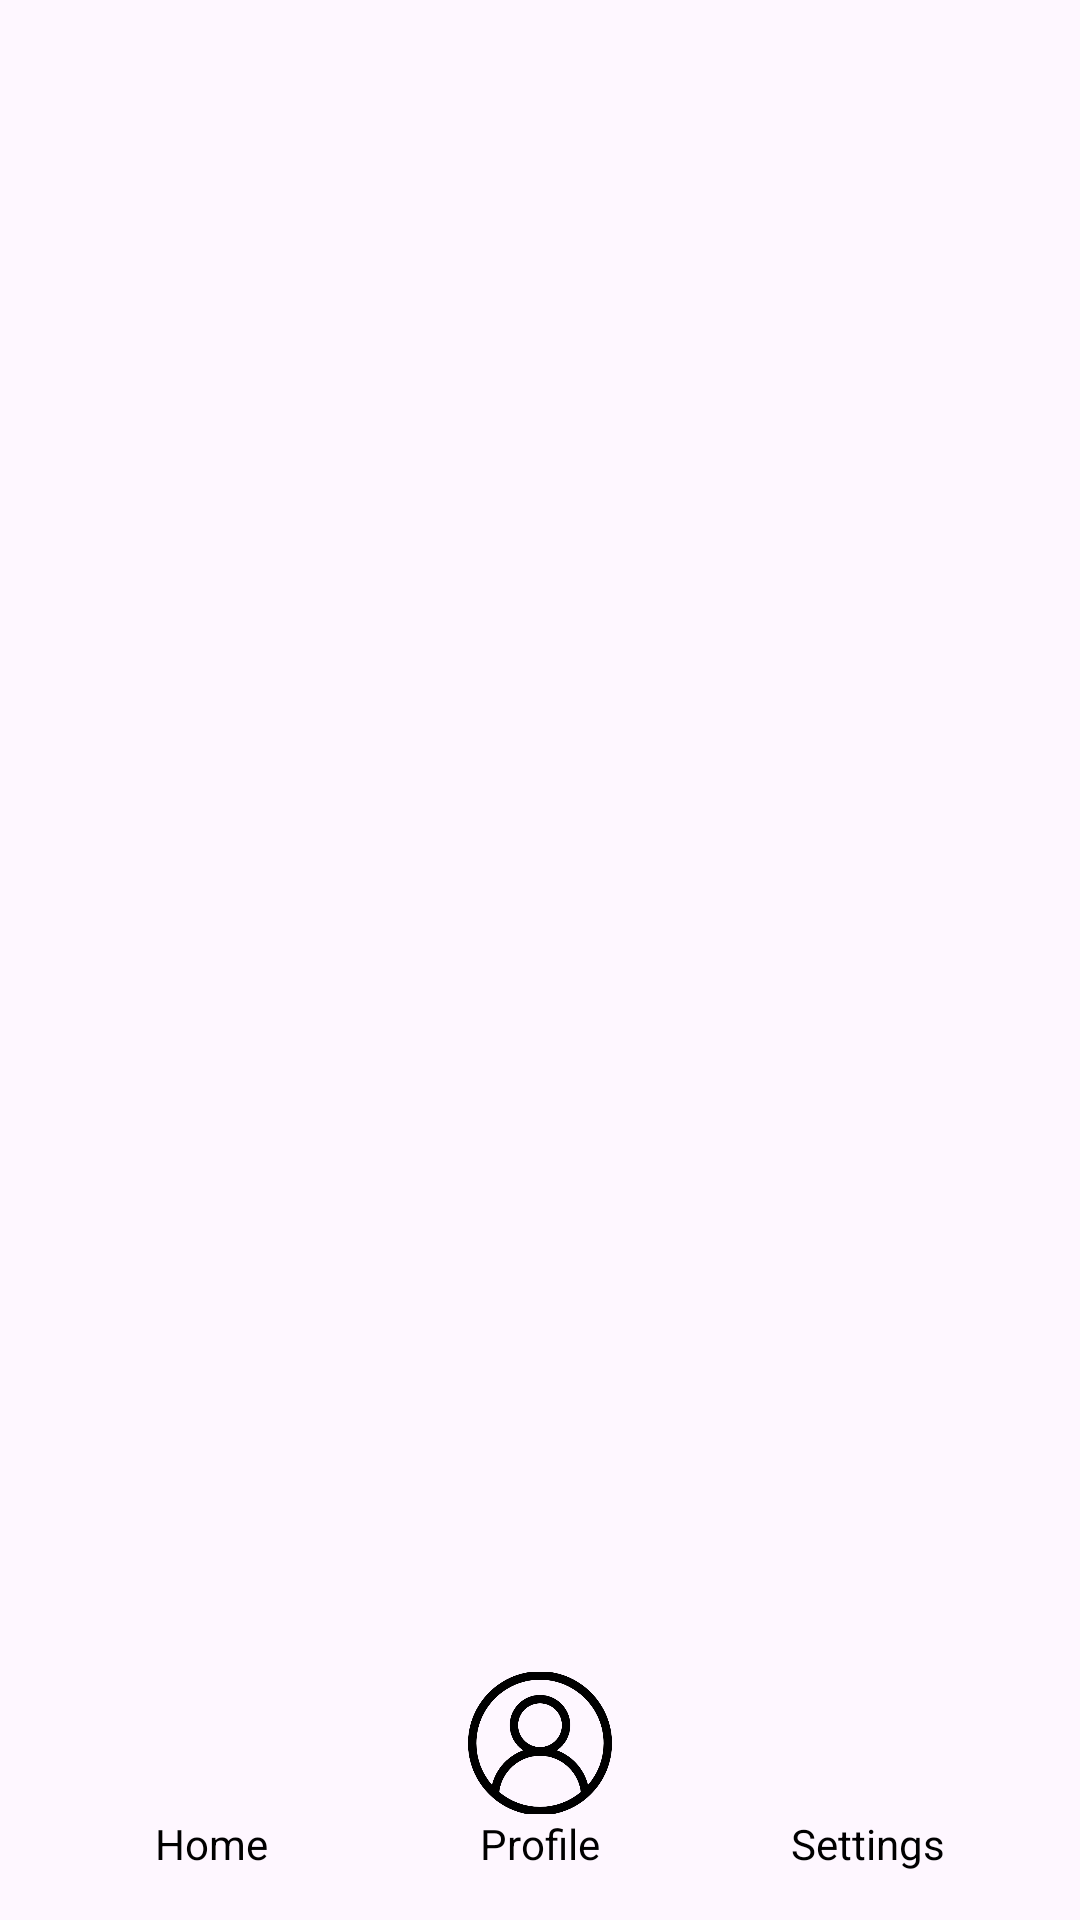

Icon bounding boxes for this 1080×1920 phone screenshot, format (x1, y1, x2, y2):
user: (468, 1672, 612, 1814)
